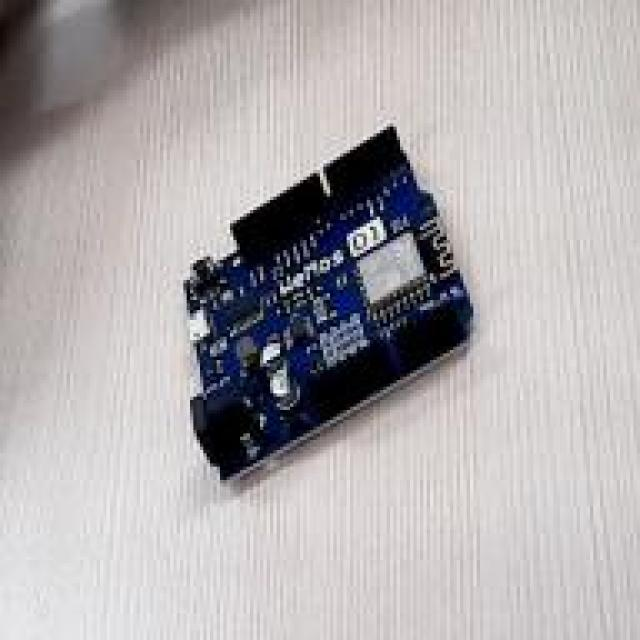Wemos: (184, 128, 471, 478)
